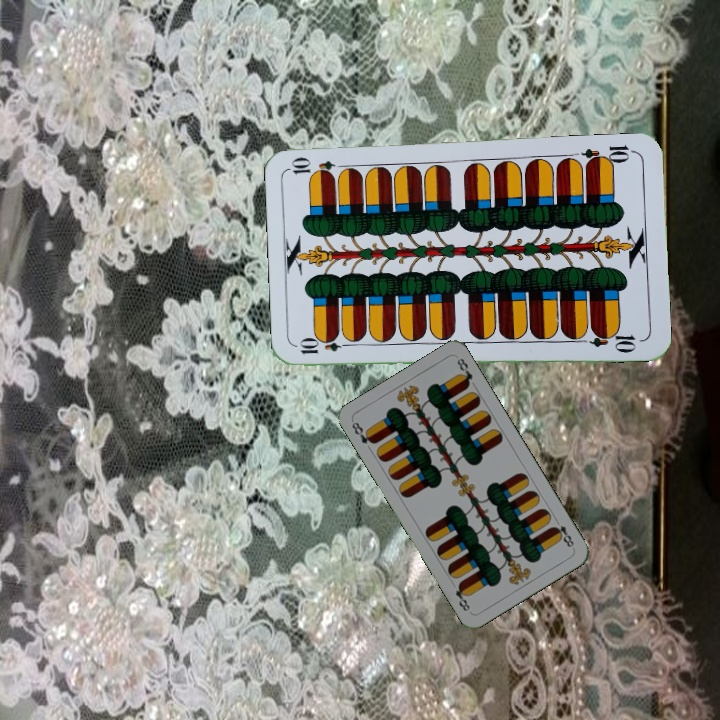E10: (579, 141, 638, 169), (296, 337, 355, 357)
E8: (549, 514, 577, 550), (348, 418, 378, 447)
